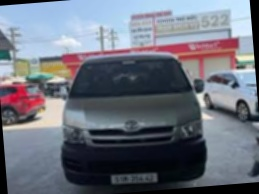Bien-so: (110, 175, 156, 188)
